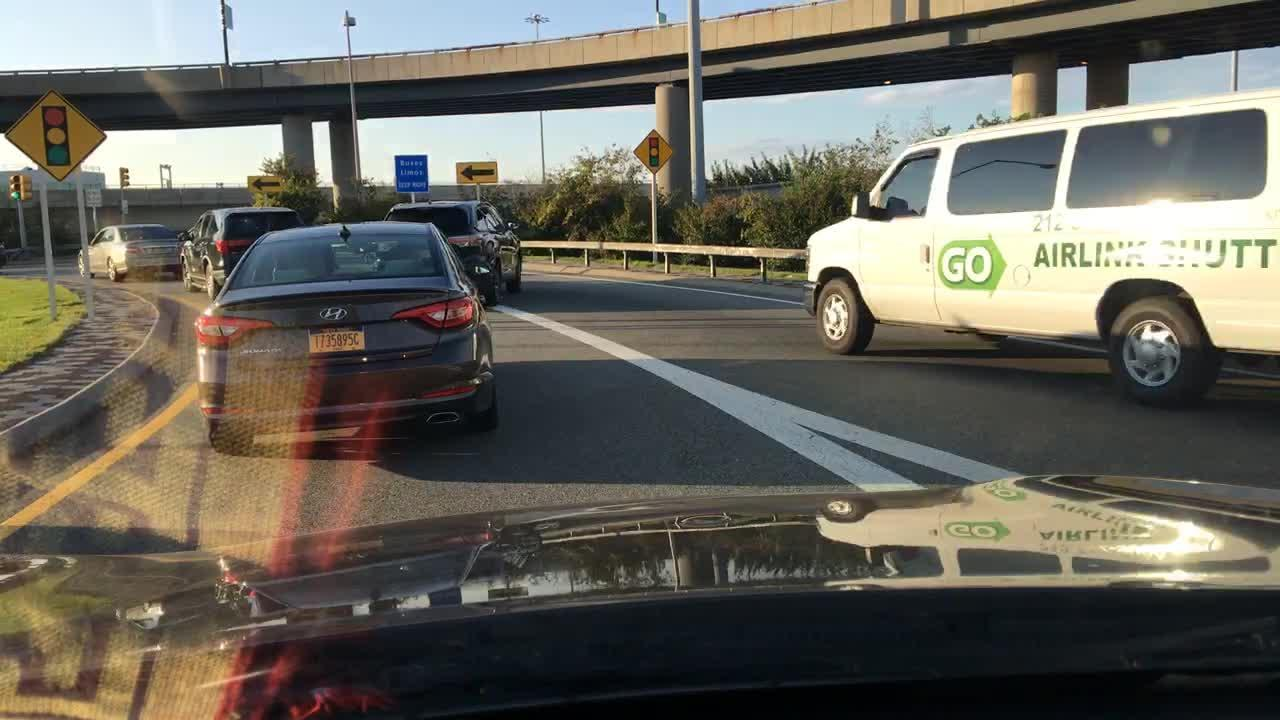Hyundai: (317, 303, 350, 328)
